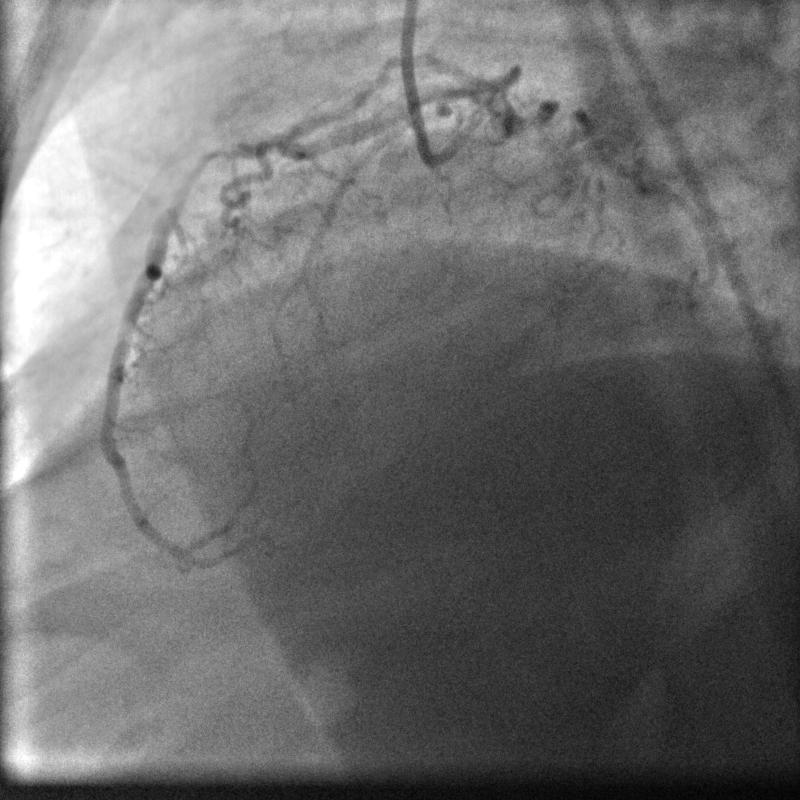Stenosis: (170, 149, 225, 203)
